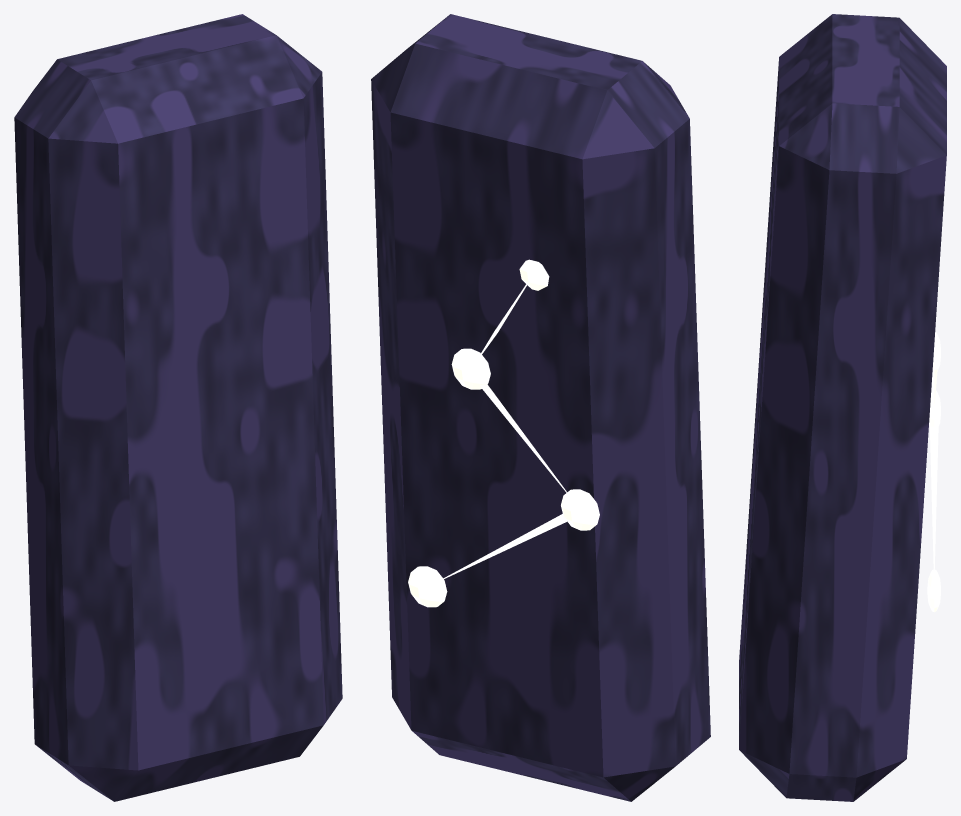
File: ConstellationStone.glb
3 views of the same model, side by side, from view 1: azimuth 30°, elevation 25°; view 2: azimuth 150°, elevation 25°; view 3: azimuth 270°, elevation 25° (orthographic). The views are drawn at different scales.
Parts seen in each view (by area): view 1: ConstellationStone; view 2: ConstellationStone, ConstellationStone_Glow; view 3: ConstellationStone, ConstellationStone_Glow.
Part boxes in pixels (<box>): ConstellationStone: <box>14,14,342,801</box>; ConstellationStone: <box>371,14,710,801</box>; ConstellationStone_Glow: <box>408,259,599,607</box>; ConstellationStone: <box>739,14,946,801</box>; ConstellationStone_Glow: <box>927,332,940,612</box>.
Size of the model in its own units: 1.3 by 3.21 by 0.8654.
Materials: 2 (1 with a texture image).
